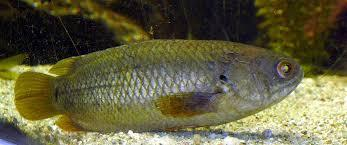Climbing Perch: (13, 35, 305, 133)
